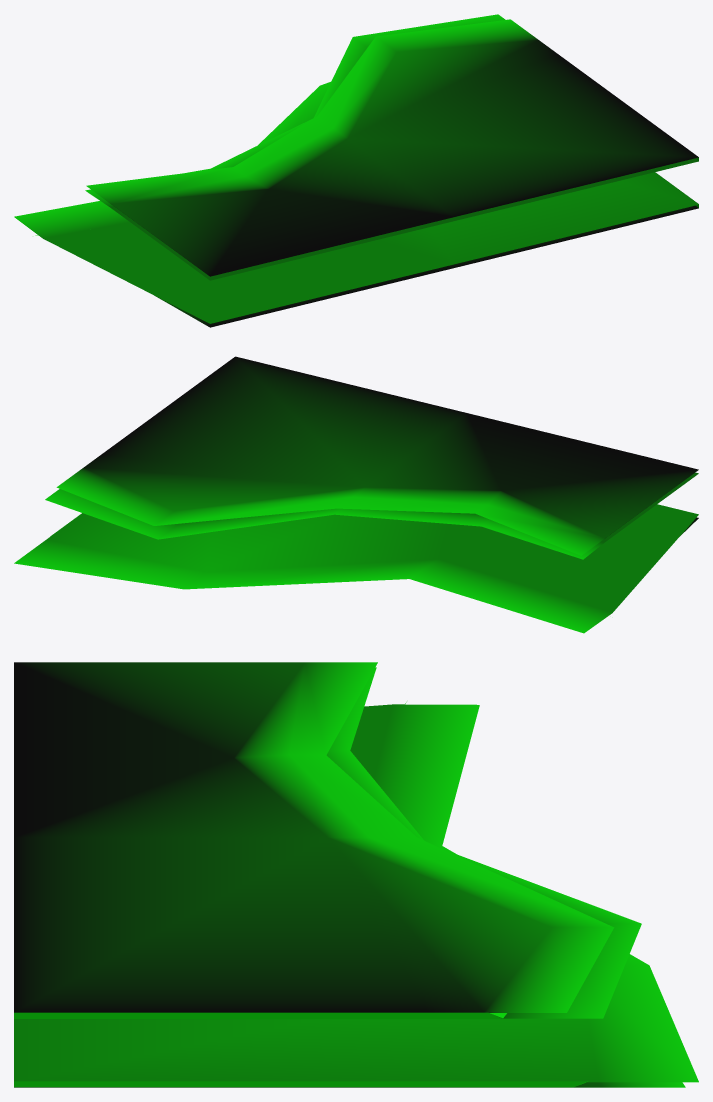
File: DBK_Plywood_Floor_Tile_A.fbx
The picture shows the model from 3 angles, top to bottom: view 1: azimuth 30°, elevation 25°; view 2: azimuth 150°, elevation 25°; view 3: azimuth 270°, elevation 25°; orthographic projection. The views are drawn at different scales.
Visible parts, largest first — view 1: DBK_Plywood_Floor_Tile_A; view 2: DBK_Plywood_Floor_Tile_A; view 3: DBK_Plywood_Floor_Tile_A.
Part boxes in pixels (<box>): DBK_Plywood_Floor_Tile_A: <box>14,14,698,327</box>; DBK_Plywood_Floor_Tile_A: <box>14,356,698,633</box>; DBK_Plywood_Floor_Tile_A: <box>14,662,698,1087</box>.
Size of the model in its own units: 218 by 20 by 165.
